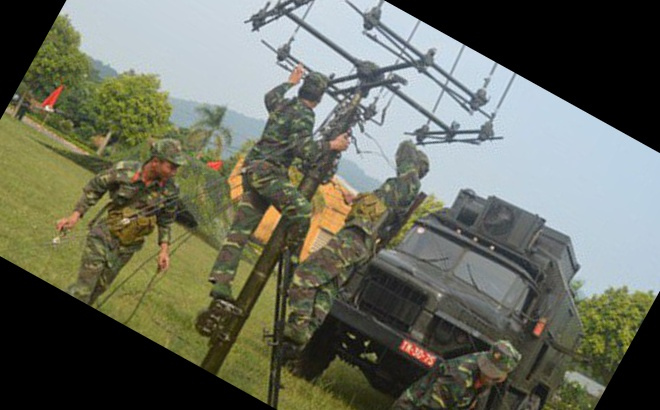plate: (395, 338, 441, 366)
